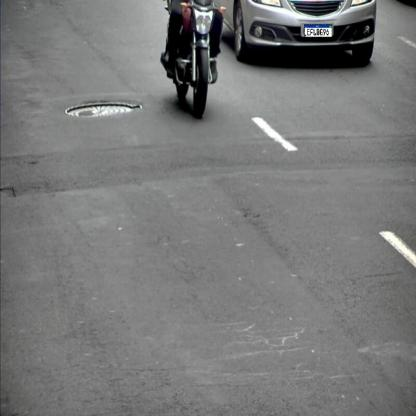PlacaM: (304, 24, 332, 38)
